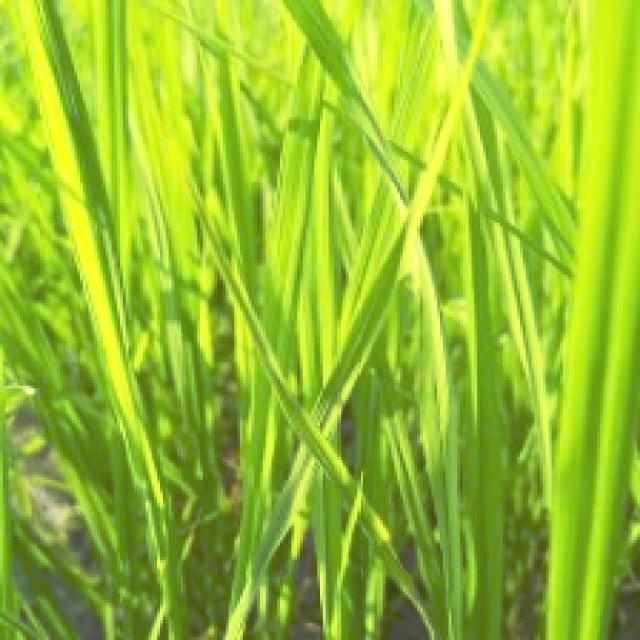health: (13, 2, 192, 638)
